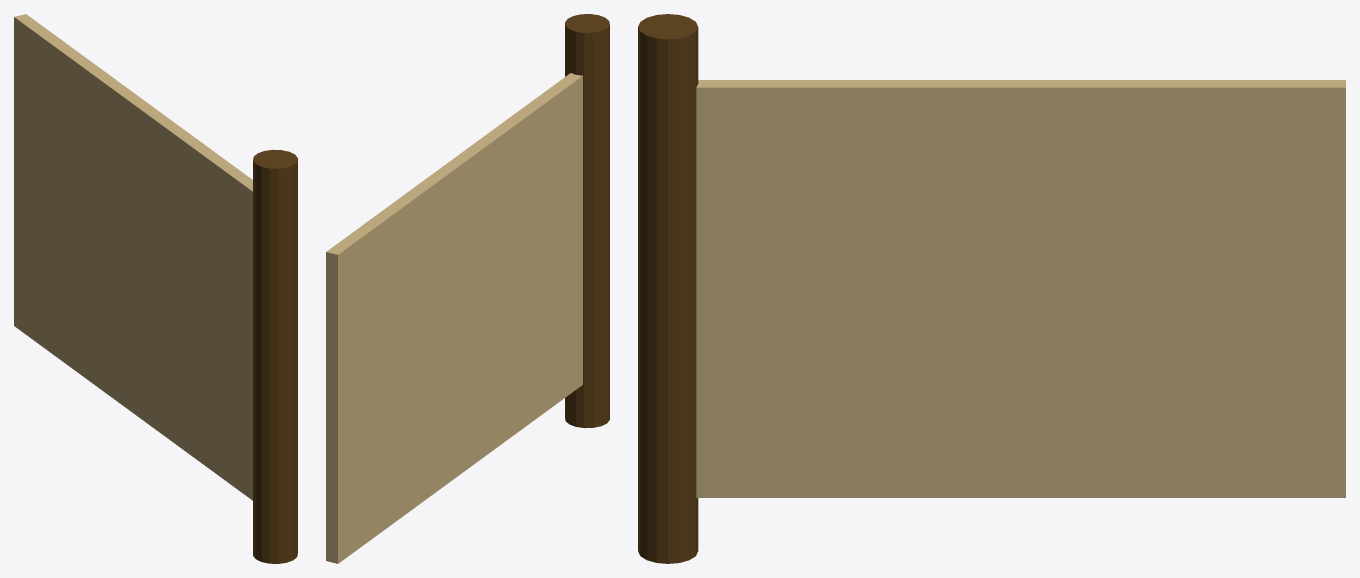
The model's file is Mauer.fbx.
3 renders of one model, left to right at view 1: azimuth 30°, elevation 25°; view 2: azimuth 150°, elevation 25°; view 3: azimuth 270°, elevation 25°, orthographic. The views are drawn at different scales.
Visible parts, largest first — view 1: Mauer, MauerPfosten; view 2: Mauer, MauerPfosten; view 3: Mauer, MauerPfosten.
Boxes of the visible parts, x1,y1,x2,y2 form: Mauer: (14,14,252,500); MauerPfosten: (253,149,297,563); Mauer: (326,73,582,563); MauerPfosten: (565,14,609,428); Mauer: (696,80,1345,497); MauerPfosten: (638,14,698,563).
Bounding box in the file's own units: 88.14 × 849 × 1038.
